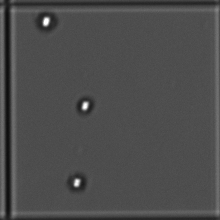Living Cell: (73, 93, 97, 116), (65, 171, 89, 194), (36, 10, 58, 32)
